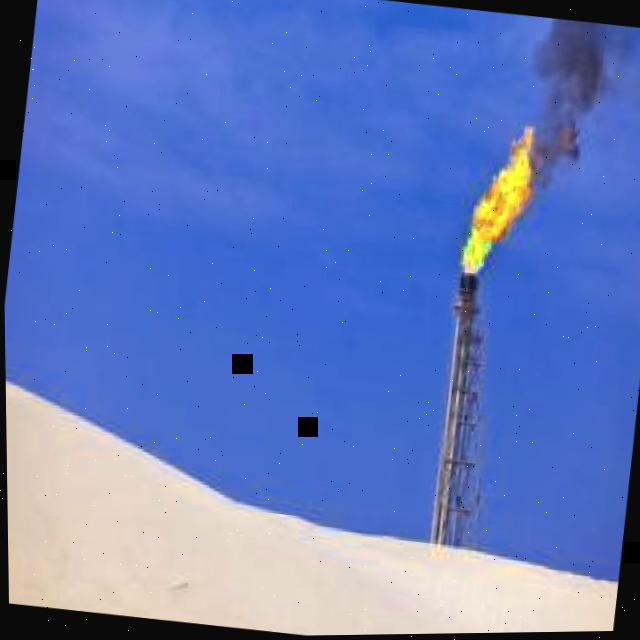fire: (460, 127, 535, 274)
smoke: (528, 20, 634, 192)
